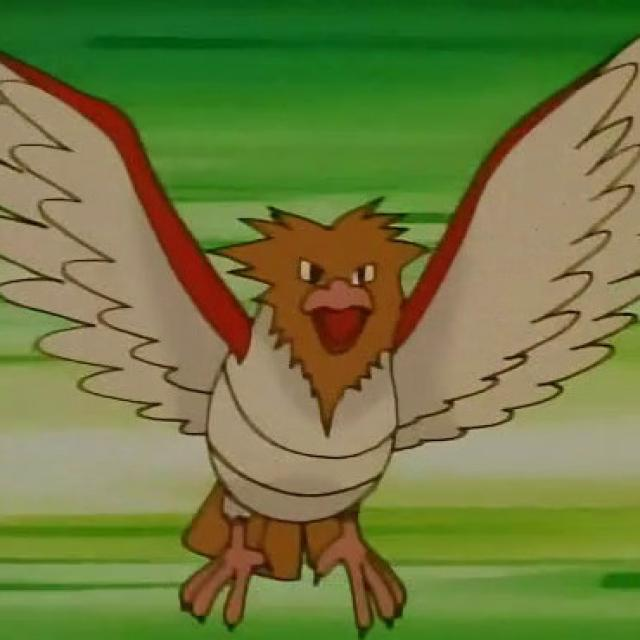Spearow: (41, 185, 612, 610)
